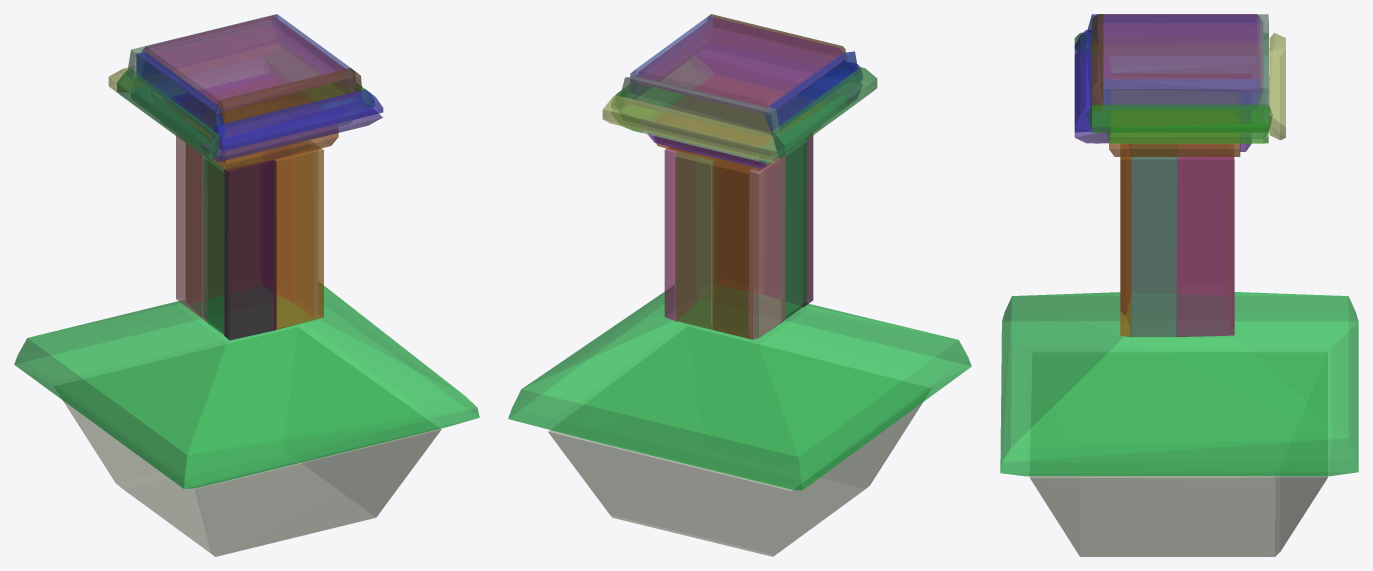
3 views of the same model, side by side, from view 1: azimuth 30°, elevation 25°; view 2: azimuth 150°, elevation 25°; view 3: azimuth 270°, elevation 25° (orthographic). The views are drawn at different scales.
Parts seen in each view (by area): view 1: Shape_IndexedFaceSet.001, Shape_IndexedFaceSet, Shape_IndexedFaceSet.024, Shape_IndexedFaceSet.009, Shape_IndexedFaceSet.011, Shape_IndexedFaceSet.004, Shape_IndexedFaceSet.005, Shape_IndexedFaceSet.013, Shape_IndexedFaceSet.023, Shape_IndexedFaceSet.008, Shape_IndexedFaceSet.021, Shape_IndexedFaceSet.006 (+11 smaller); view 2: Shape_IndexedFaceSet.001, Shape_IndexedFaceSet, Shape_IndexedFaceSet.024, Shape_IndexedFaceSet.005, Shape_IndexedFaceSet.006, Shape_IndexedFaceSet.009, Shape_IndexedFaceSet.004, Shape_IndexedFaceSet.023, Shape_IndexedFaceSet.002, Shape_IndexedFaceSet.011, Shape_IndexedFaceSet.007, Shape_IndexedFaceSet.017 (+12 smaller); view 3: Shape_IndexedFaceSet.001, Shape_IndexedFaceSet, Shape_IndexedFaceSet.024, Shape_IndexedFaceSet.007, Shape_IndexedFaceSet.010, Shape_IndexedFaceSet.004, Shape_IndexedFaceSet.023, Shape_IndexedFaceSet.008, Shape_IndexedFaceSet.015, Shape_IndexedFaceSet.025, Shape_IndexedFaceSet.019, Shape_IndexedFaceSet.014 (+10 smaller).
Boxes of the visible parts, <box> form: Shape_IndexedFaceSet.001: <box>14,282,479,488</box>; Shape_IndexedFaceSet: <box>55,327,441,556</box>; Shape_IndexedFaceSet.024: <box>140,15,345,113</box>; Shape_IndexedFaceSet.009: <box>224,160,276,340</box>; Shape_IndexedFaceSet.011: <box>273,147,323,330</box>; Shape_IndexedFaceSet.004: <box>176,135,207,322</box>; Shape_IndexedFaceSet.005: <box>186,144,224,303</box>; Shape_IndexedFaceSet.013: <box>211,89,383,151</box>; Shape_IndexedFaceSet.023: <box>166,77,338,170</box>; Shape_IndexedFaceSet.008: <box>203,155,229,338</box>; Shape_IndexedFaceSet.021: <box>214,68,362,127</box>; Shape_IndexedFaceSet.006: <box>225,152,261,292</box>; Shape_IndexedFaceSet.001: <box>508,285,971,490</box>; Shape_IndexedFaceSet: <box>548,327,931,556</box>; Shape_IndexedFaceSet.024: <box>632,17,847,114</box>; Shape_IndexedFaceSet.005: <box>712,160,752,339</box>; Shape_IndexedFaceSet.006: <box>675,151,714,329</box>; Shape_IndexedFaceSet.009: <box>765,134,813,307</box>; Shape_IndexedFaceSet.004: <box>749,155,785,339</box>; Shape_IndexedFaceSet.023: <box>654,75,822,171</box>; Shape_IndexedFaceSet.002: <box>602,95,777,163</box>; Shape_IndexedFaceSet.011: <box>719,159,762,293</box>; Shape_IndexedFaceSet.007: <box>664,147,695,321</box>; Shape_IndexedFaceSet.017: <box>620,76,779,139</box>; Shape_IndexedFaceSet.001: <box>1000,292,1358,476</box>; Shape_IndexedFaceSet: <box>1029,353,1327,556</box>; Shape_IndexedFaceSet.024: <box>1097,14,1262,91</box>; Shape_IndexedFaceSet.007: <box>1176,155,1234,336</box>; Shape_IndexedFaceSet.010: <box>1131,157,1177,336</box>; Shape_IndexedFaceSet.004: <box>1177,144,1227,295</box>; Shape_IndexedFaceSet.023: <box>1109,90,1240,156</box>; Shape_IndexedFaceSet.008: <box>1132,144,1176,292</box>; Shape_IndexedFaceSet.015: <box>1085,104,1272,132</box>; Shape_IndexedFaceSet.025: <box>1103,79,1262,109</box>; Shape_IndexedFaceSet.019: <box>1084,14,1262,43</box>; Shape_IndexedFaceSet.014: <box>1109,124,1268,143</box>.
Bounding box in the file's own units: 0.4904 × 0.7069 × 0.4904.
